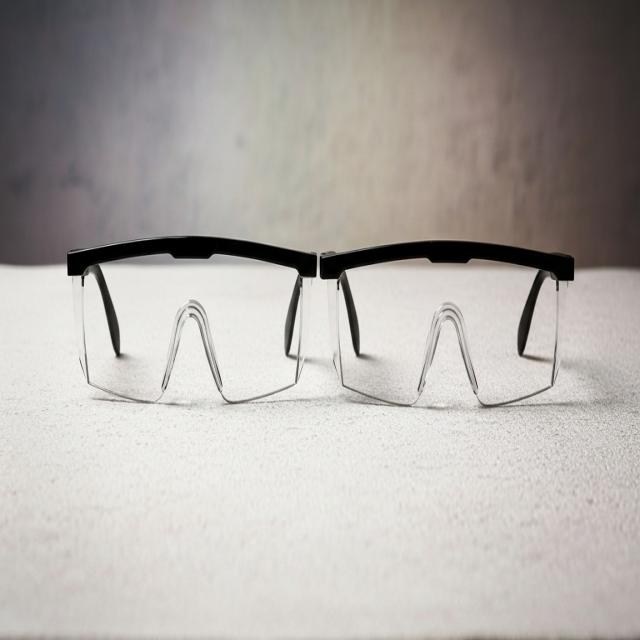oculos-epi: (321, 241, 574, 405), (72, 252, 313, 401)
